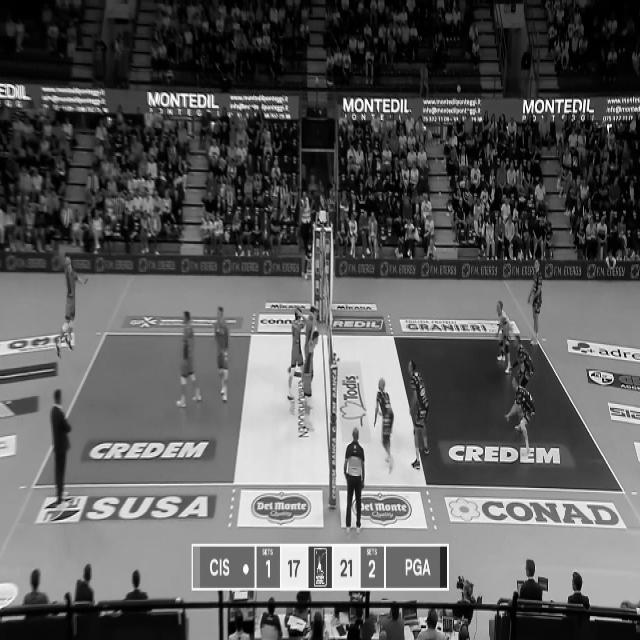volleyball court: (34, 334, 623, 490)
